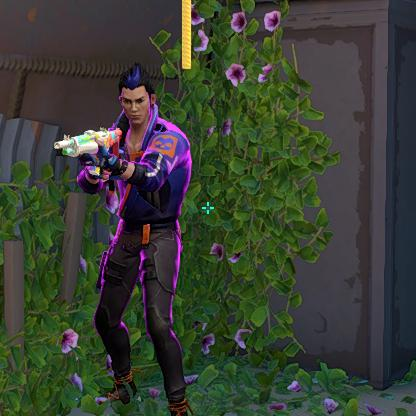enemyBody: (117, 132, 173, 233)
enemyHead: (126, 88, 148, 119)
